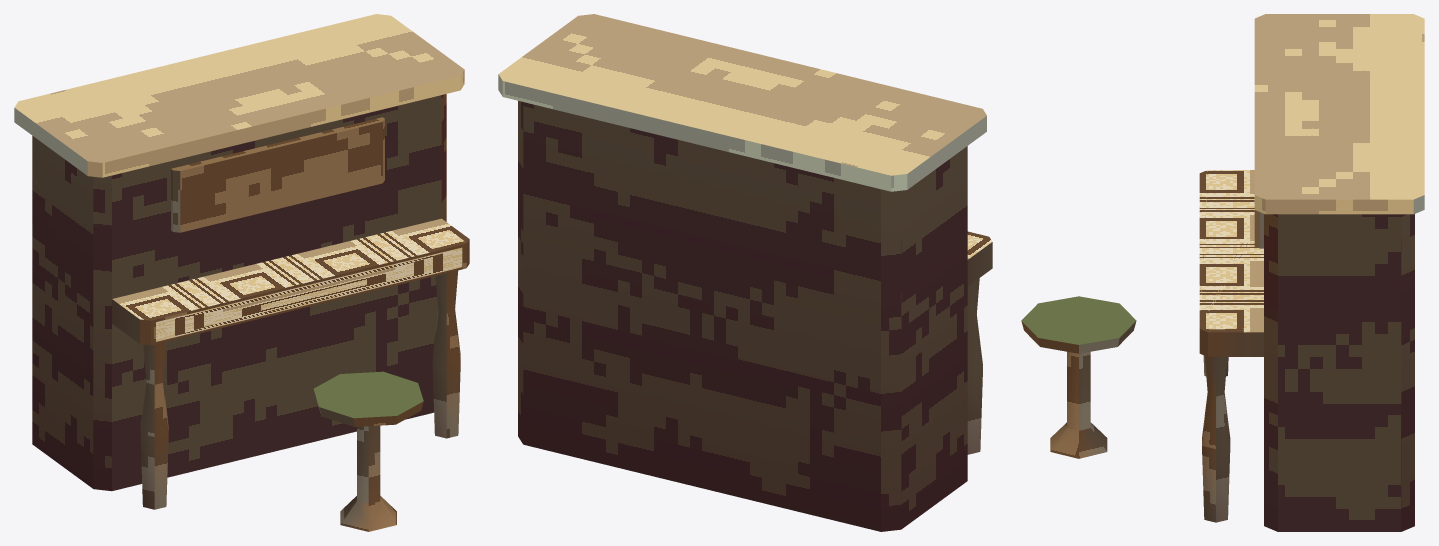
File: wprop.piano.glb
The picture shows the model from 3 angles, left to right: view 1: azimuth 30°, elevation 25°; view 2: azimuth 150°, elevation 25°; view 3: azimuth 270°, elevation 25°; orthographic projection. The views are drawn at different scales.
Parts seen in each view (by area): view 1: kit_cabinet, kit_top_trim, kit_rest, kit_keyshelf, kit_stool, kit_legs, kit_card_keys; view 2: kit_cabinet, kit_top_trim, kit_legs, kit_keyshelf; view 3: kit_cabinet, kit_top_trim, kit_keyshelf, kit_stool, kit_legs.
Part boxes in pixels (x1,y1,x2,y2): kit_cabinet: (32,94,446,491); kit_top_trim: (14,14,464,177); kit_rest: (171,117,384,232); kit_keyshelf: (112,218,469,345); kit_stool: (313,371,423,531); kit_legs: (140,270,460,509); kit_card_keys: (156,247,462,341); kit_cabinet: (518,101,967,531); kit_top_trim: (498,14,986,191); kit_legs: (967,278,982,454); kit_keyshelf: (967,231,992,286); kit_cabinet: (1264,214,1414,531); kit_top_trim: (1254,14,1424,214); kit_keyshelf: (1199,170,1263,356); kit_stool: (1021,296,1136,458); kit_legs: (1202,355,1230,522).
Bounding box in the file's own units: 1.6 × 1.36 × 1.47.
Materials: 5 (5 with a texture image).
